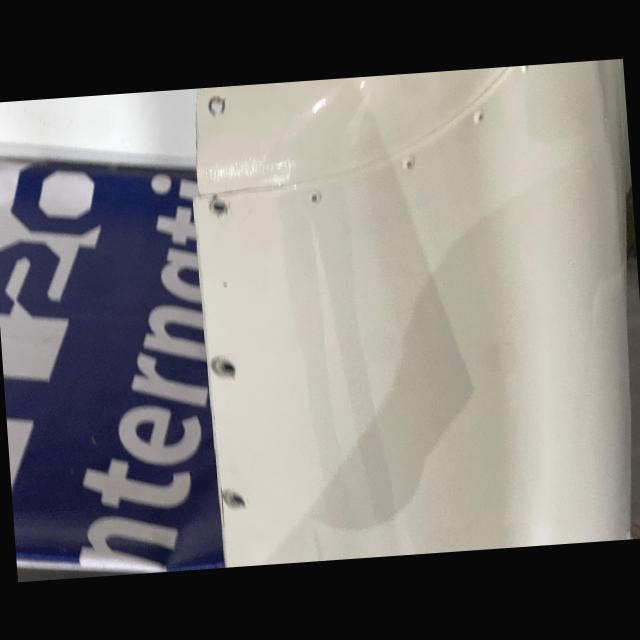Missing Fastener: (202, 186, 242, 223), (220, 474, 254, 516), (200, 84, 239, 120), (210, 344, 242, 384)
